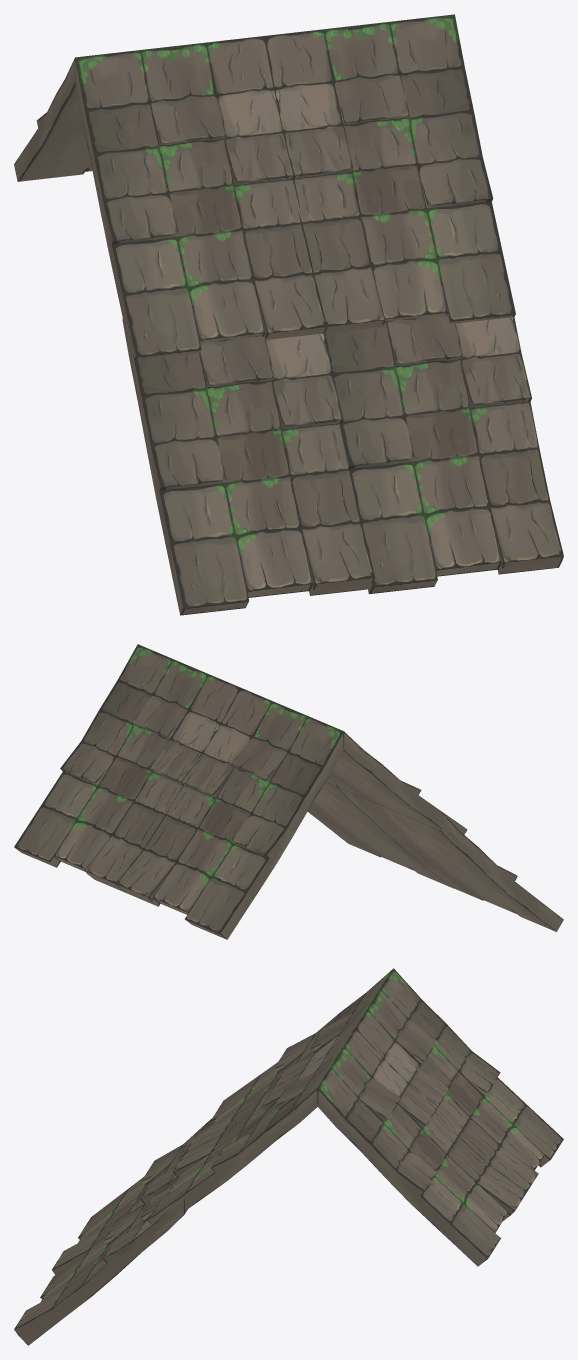
The model's file is polysurface526_txt_toit_0_lev1_lev2.glb.
3 renders of one model, top to bottom at view 1: azimuth 30°, elevation 25°; view 2: azimuth 150°, elevation 25°; view 3: azimuth 270°, elevation 25°, orthographic. The views are drawn at different scales.
Visible parts, largest first — view 1: polysurface526_txt_toit_0_lev1_lev2; view 2: polysurface526_txt_toit_0_lev1_lev2; view 3: polysurface526_txt_toit_0_lev1_lev2.
Part boxes in pixels (x1=…): polysurface526_txt_toit_0_lev1_lev2: x1=14, y1=14, x2=563, y2=615; polysurface526_txt_toit_0_lev1_lev2: x1=14, y1=644, x2=563, y2=939; polysurface526_txt_toit_0_lev1_lev2: x1=14, y1=968, x2=563, y2=1345.
Size of the model in its own units: 8.52 by 6.71 by 11.43.
1 material, 1 textured.
